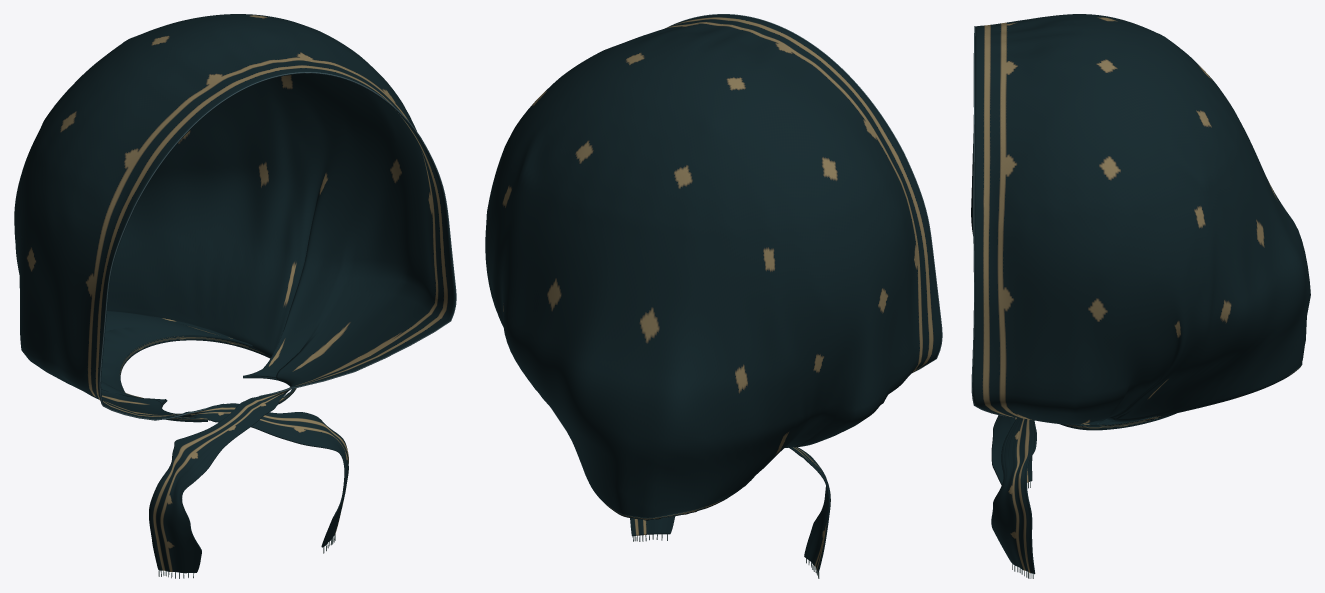
The model's file is Feminine-ponytail-tank-pashmina249-headgear.glb.
3 views of the same model, side by side, from view 1: azimuth 30°, elevation 25°; view 2: azimuth 150°, elevation 25°; view 3: azimuth 270°, elevation 25° (orthographic). The views are drawn at different scales.
Parts seen in each view (by area): view 1: 226 headgear / Headwear / continuous woven pashmina239, 226 headgear / Headwear / face edge239; view 2: 226 headgear / Headwear / continuous woven pashmina239, 226 headgear / Headwear / face edge239; view 3: 226 headgear / Headwear / continuous woven pashmina239, 226 headgear / Headwear / face edge239.
Part boxes in pixels (x1,y1,x2,y2): 226 headgear / Headwear / continuous woven pashmina239: (14,14,455,573); 226 headgear / Headwear / face edge239: (99,72,456,420); 226 headgear / Headwear / continuous woven pashmina239: (485,14,941,572); 226 headgear / Headwear / face edge239: (665,14,942,372); 226 headgear / Headwear / continuous woven pashmina239: (971,14,1310,574); 226 headgear / Headwear / face edge239: (971,26,1012,417).
Size of the model in its own units: 1.02 by 1.37 by 0.8332.
3 materials, 1 textured.
